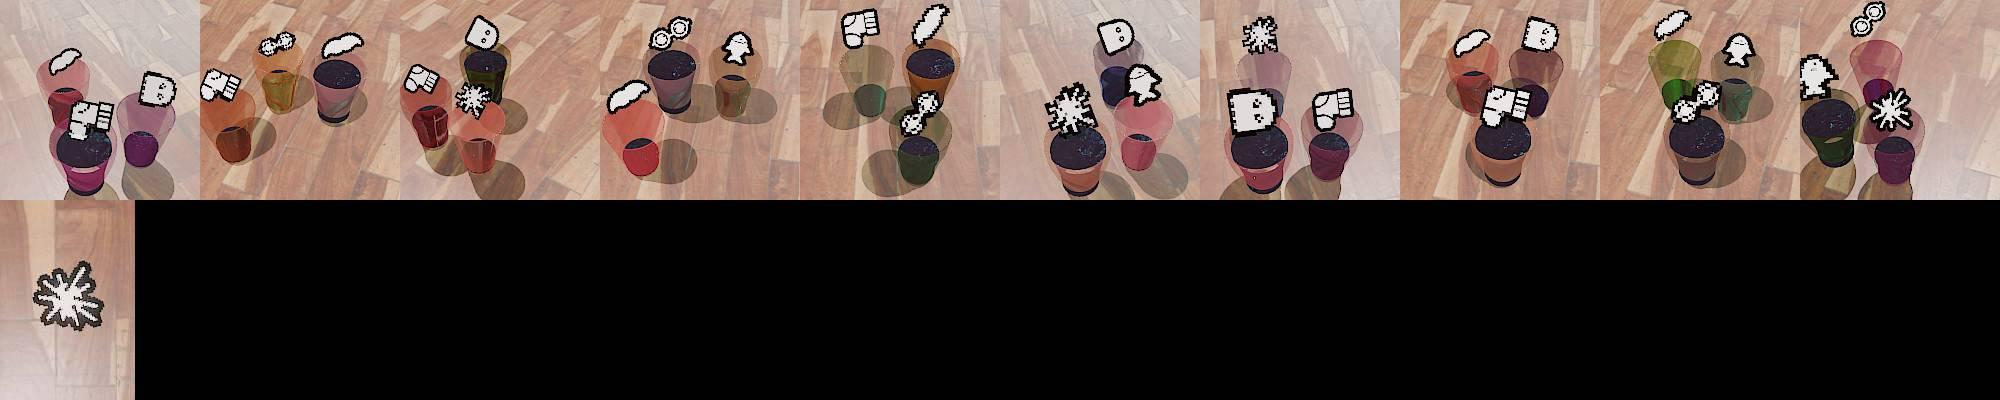icon: (31, 261, 105, 331), (1043, 80, 1096, 136), (1227, 86, 1283, 136), (1670, 78, 1721, 127), (1867, 86, 1916, 131), (1481, 86, 1533, 127), (898, 89, 942, 136), (1798, 53, 1841, 101), (67, 97, 113, 141), (1311, 87, 1355, 132), (909, 3, 951, 48), (1122, 62, 1163, 108), (649, 14, 695, 52), (605, 78, 652, 115), (1241, 14, 1281, 55), (840, 9, 880, 49), (1521, 16, 1561, 54), (199, 68, 242, 103), (138, 70, 177, 108), (453, 80, 492, 118), (1096, 19, 1136, 56), (1848, 2, 1887, 39), (1716, 32, 1756, 68), (1654, 8, 1694, 42), (320, 32, 365, 61), (465, 15, 501, 51), (720, 30, 756, 66), (403, 62, 441, 95), (1451, 28, 1490, 58), (259, 30, 296, 58), (49, 47, 83, 76)
